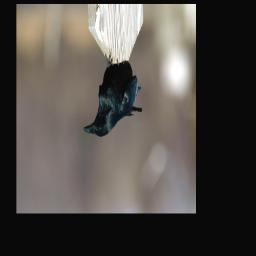Crow: (83, 54, 142, 137)
